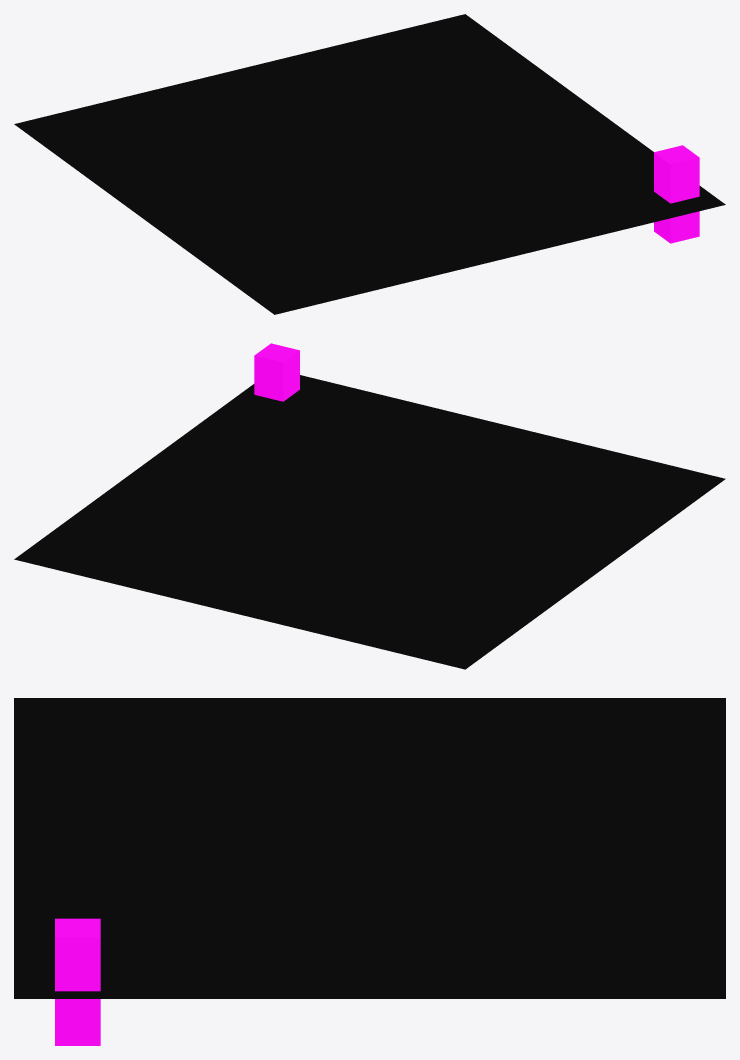
The picture shows the model from 3 angles, top to bottom: view 1: azimuth 30°, elevation 25°; view 2: azimuth 150°, elevation 25°; view 3: azimuth 270°, elevation 25°; orthographic projection. The views are drawn at different scales.
Parts seen in each view (by area): view 1: 平面, 平面|Cube|Dupli|; view 2: 平面, 平面|Cube|Dupli|; view 3: 平面, 平面|Cube|Dupli|.
Boxes of the visible parts, left/top/right/bottom form: 平面: left=14, top=14, right=725, bottom=314; 平面|Cube|Dupli|: left=654, top=145, right=699, bottom=243; 平面: left=14, top=375, right=725, bottom=669; 平面|Cube|Dupli|: left=254, top=343, right=299, bottom=401; 平面: left=14, top=698, right=725, bottom=998; 平面|Cube|Dupli|: left=55, top=918, right=100, bottom=1045.
Size of the model in its own units: 200 by 33.5 by 200.
